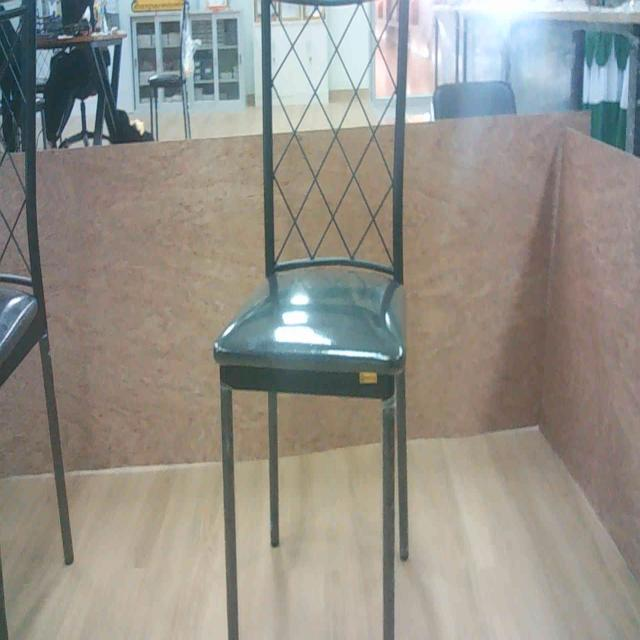emtpy: (204, 0, 426, 640)
